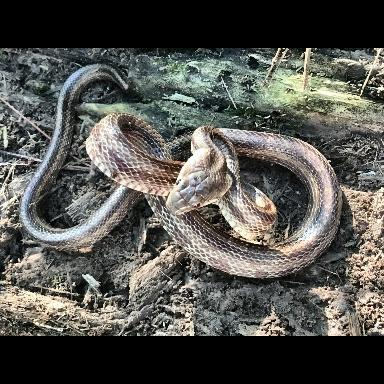snake: (21, 66, 344, 280)
